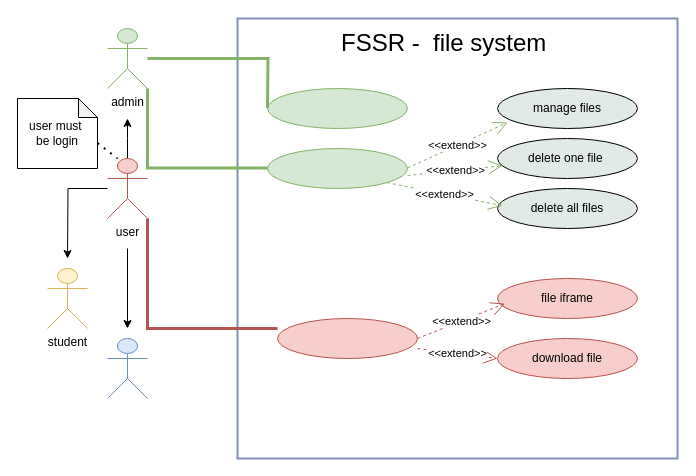
Image size: 696x476. Some labels were removed from this diagram. Here are the shapes that lost their labels. From the top down, the centre of each, then its label:
At pixel 337 108: "add file".
At pixel 337 168: "file table".
At pixel 347 338: "show file list in index page".
At pixel 127 368: "doctor".
